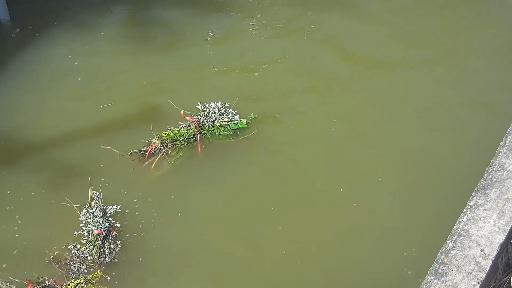twig: (128, 98, 267, 167), (63, 169, 124, 266), (0, 270, 130, 288)
